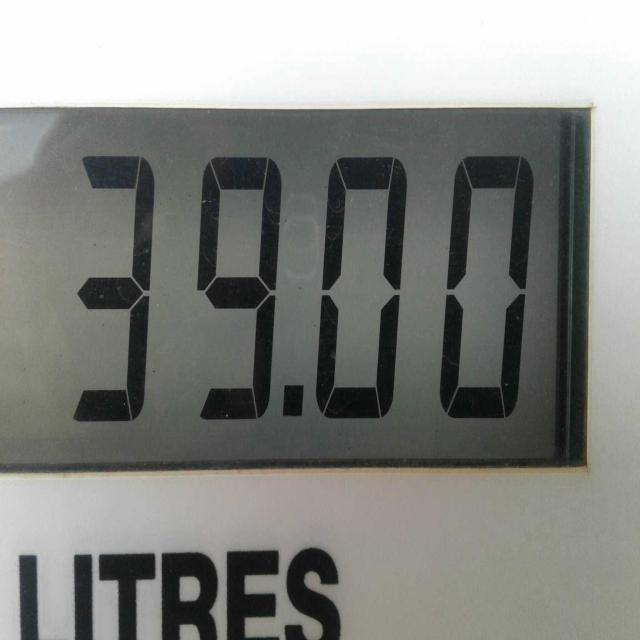.: (278, 372, 311, 449)
0: (441, 152, 531, 423), (322, 159, 404, 424)
3: (78, 150, 151, 420)
9: (197, 153, 276, 421)
